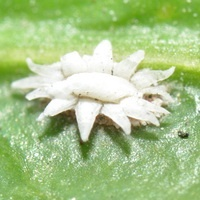insect: (12, 40, 174, 141)
